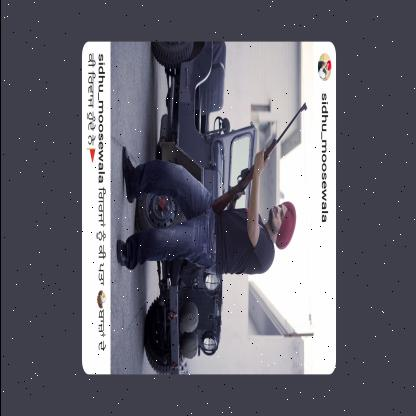rifle: (207, 100, 308, 216)
